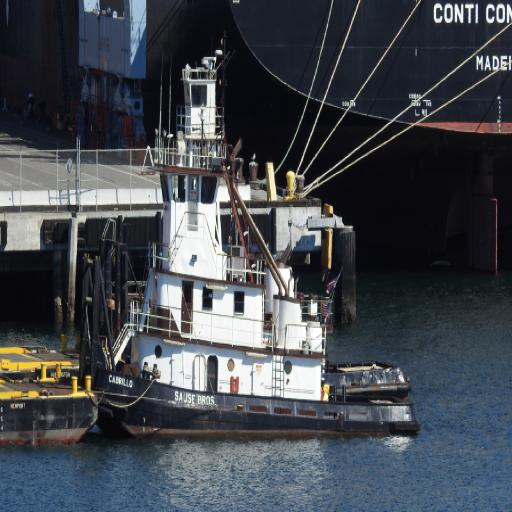tugboat: (78, 47, 425, 451)
